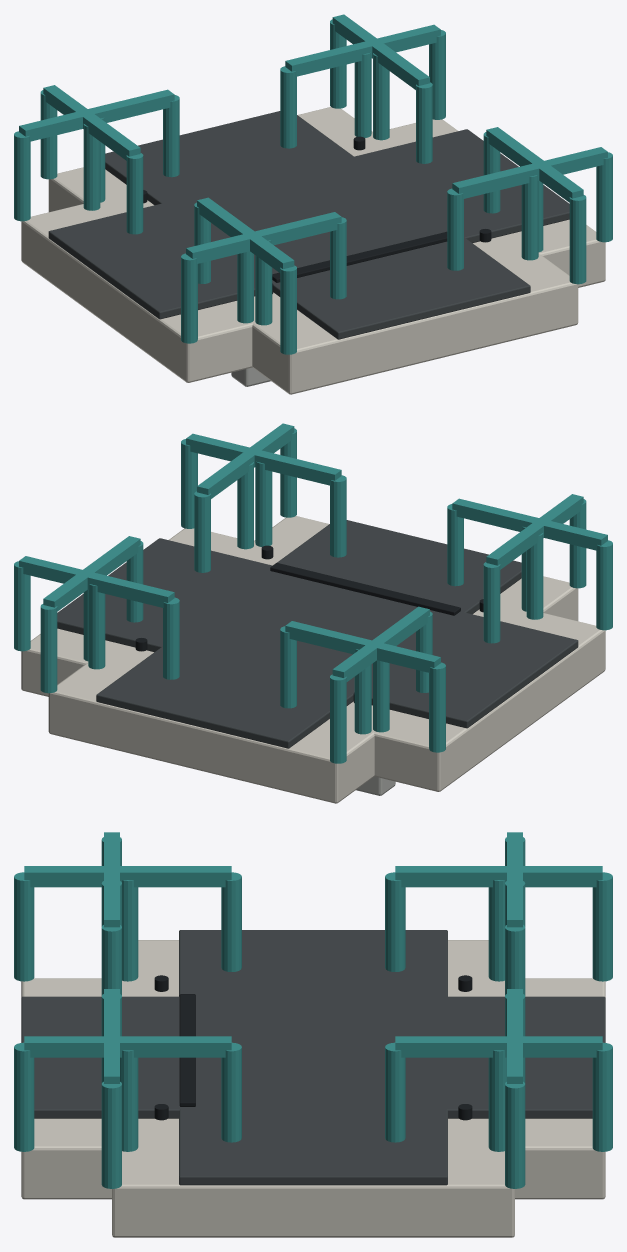
Rendered from BRG_LOCAL_DECK_1x1_CROSS.glb.
3 renders of one model, top to bottom at view 1: azimuth 30°, elevation 25°; view 2: azimuth 150°, elevation 25°; view 3: azimuth 270°, elevation 25°, orthographic. The views are drawn at different scales.
Parts seen in each view (by area): view 1: BRG_LOCAL_DECK_1x1_CROSS_Visual; view 2: BRG_LOCAL_DECK_1x1_CROSS_Visual; view 3: BRG_LOCAL_DECK_1x1_CROSS_Visual.
Part boxes in pixels (bbox=[...]): BRG_LOCAL_DECK_1x1_CROSS_Visual: bbox=[14, 14, 612, 394]; BRG_LOCAL_DECK_1x1_CROSS_Visual: bbox=[14, 423, 612, 803]; BRG_LOCAL_DECK_1x1_CROSS_Visual: bbox=[14, 832, 612, 1237].
Size of what is drawn, in the model's own units: 2.05 by 0.7475 by 2.05.
